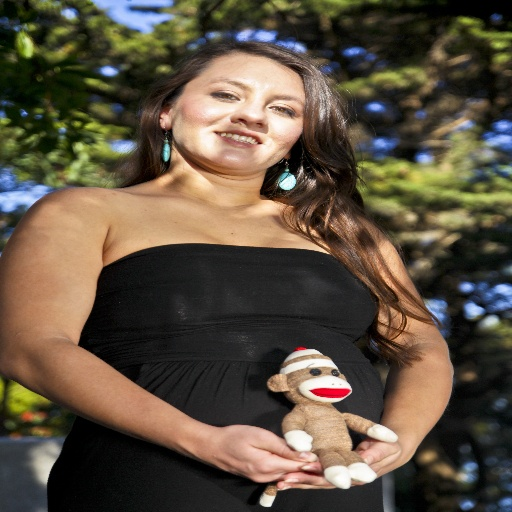hand: (184, 416, 315, 485), (275, 437, 407, 489)
